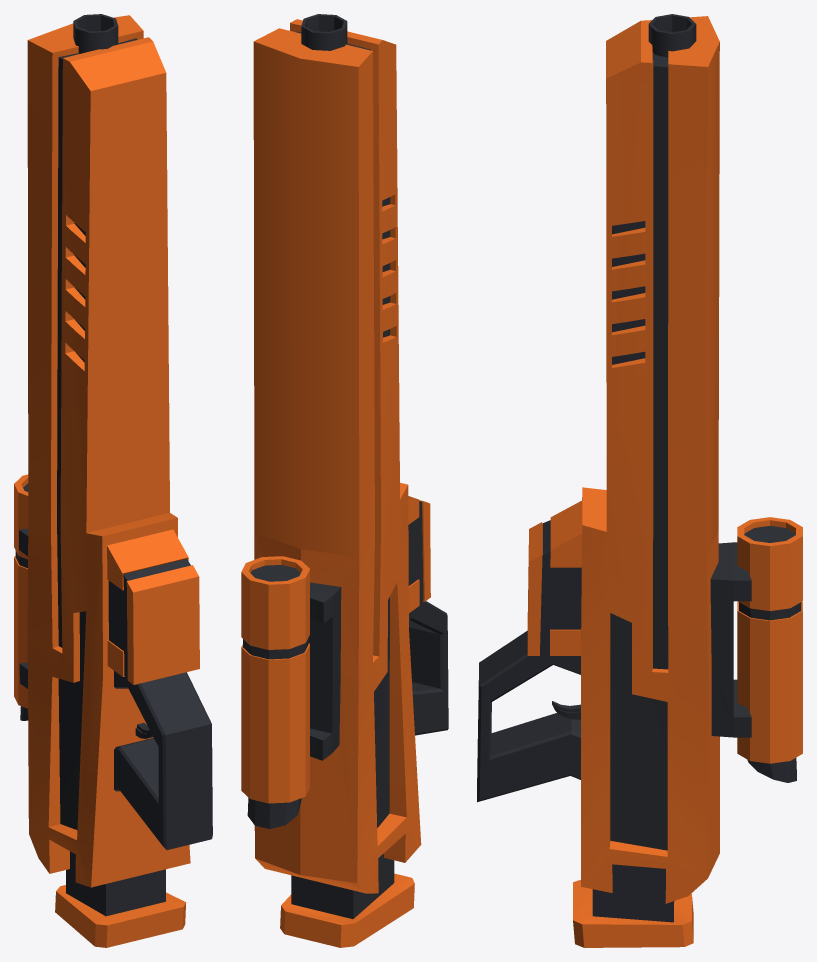
File: low poly scifi gun008.fbx
3 views of the same model, side by side, from view 1: azimuth 30°, elevation 25°; view 2: azimuth 150°, elevation 25°; view 3: azimuth 270°, elevation 25° (orthographic). The views are drawn at different scales.
Visible parts, largest first — view 1: low poly scifi gun008; view 2: low poly scifi gun008; view 3: low poly scifi gun008.
Boxes of the visible parts, x1=… form: low poly scifi gun008: x1=14, y1=14, x2=212, y2=947; low poly scifi gun008: x1=241, y1=14, x2=448, y2=947; low poly scifi gun008: x1=477, y1=14, x2=802, y2=947.
Bounding box in the file's own units: 3.2 × 26.48 × 8.64.
